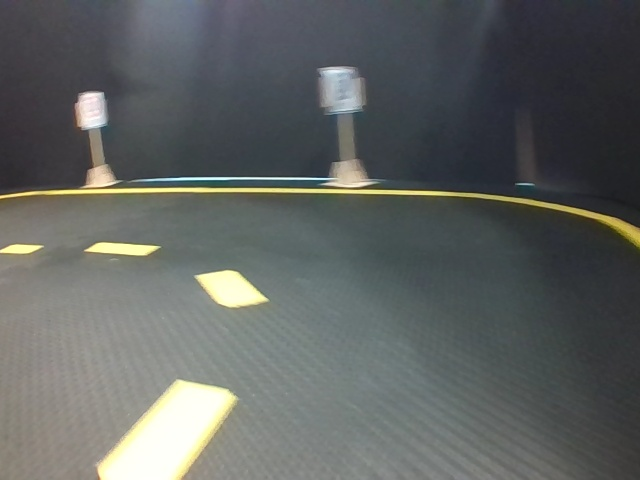30: (79, 93, 106, 125)
no30: (322, 68, 361, 112)
